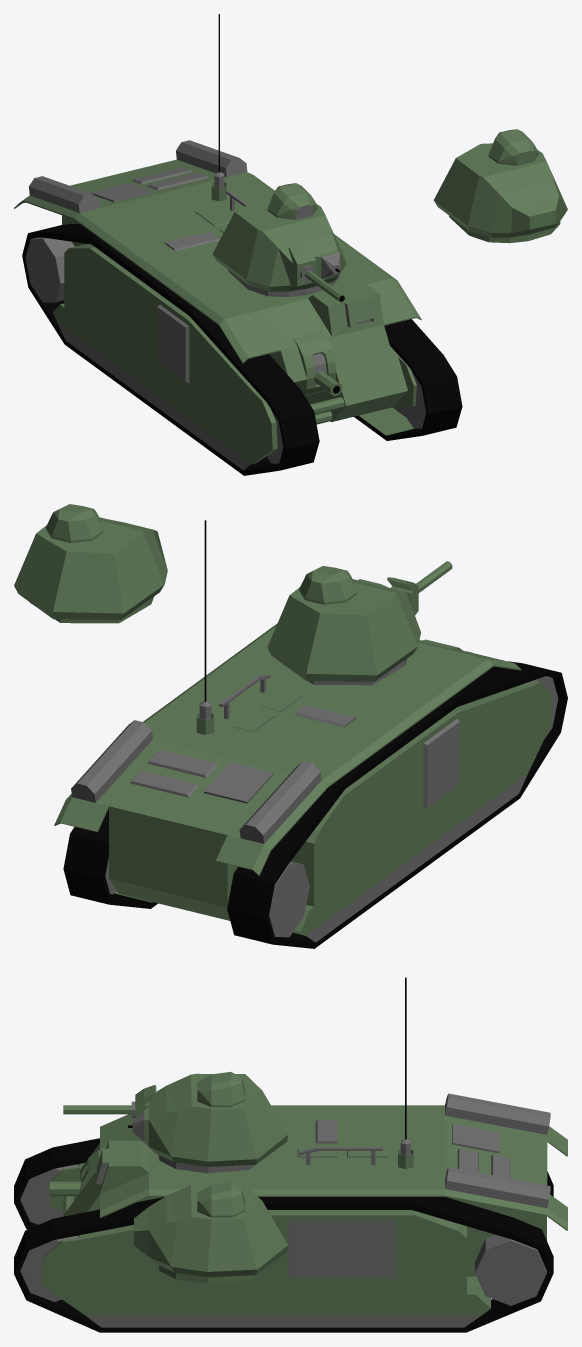
The model's file is B1 bis.fbx.
The picture shows the model from 3 angles, top to bottom: view 1: azimuth 30°, elevation 25°; view 2: azimuth 150°, elevation 25°; view 3: azimuth 270°, elevation 25°; orthographic projection. The views are drawn at different scales.
Visible parts, largest first — view 1: B1 bis Hull, B1 bis Turret, B1 bis Turret Colluder; view 2: B1 bis Hull, B1 bis Turret, B1 bis Turret Colluder; view 3: B1 bis Hull, B1 bis Turret, B1 bis Turret Colluder.
Part boxes in pixels (bbox=[...]): B1 bis Hull: bbox=[14, 14, 462, 475]; B1 bis Turret: bbox=[212, 183, 346, 302]; B1 bis Turret Colluder: bbox=[433, 129, 567, 243]; B1 bis Hull: bbox=[54, 520, 567, 948]; B1 bis Turret: bbox=[267, 561, 452, 685]; B1 bis Turret Colluder: bbox=[14, 504, 167, 623]; B1 bis Hull: bbox=[14, 977, 567, 1332]; B1 bis Turret: bbox=[63, 1072, 287, 1173]; B1 bis Turret Colluder: bbox=[134, 1182, 287, 1283].
Size of what is drawn, in the model's own units: 505 by 417 by 636.
